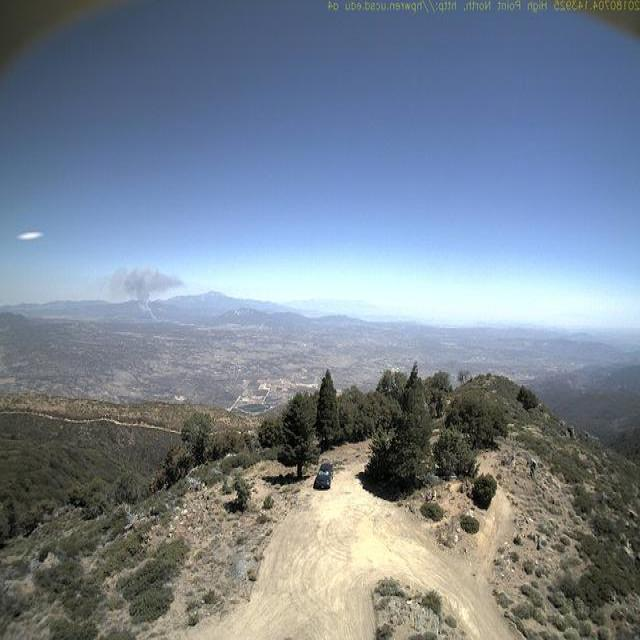Smoke: (105, 260, 185, 323)
